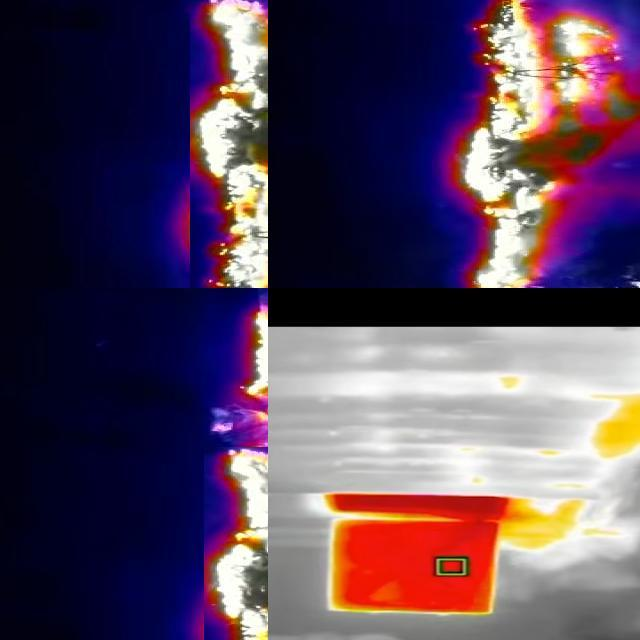fire: (459, 1, 640, 289), (191, 1, 269, 289), (500, 496, 586, 552)
